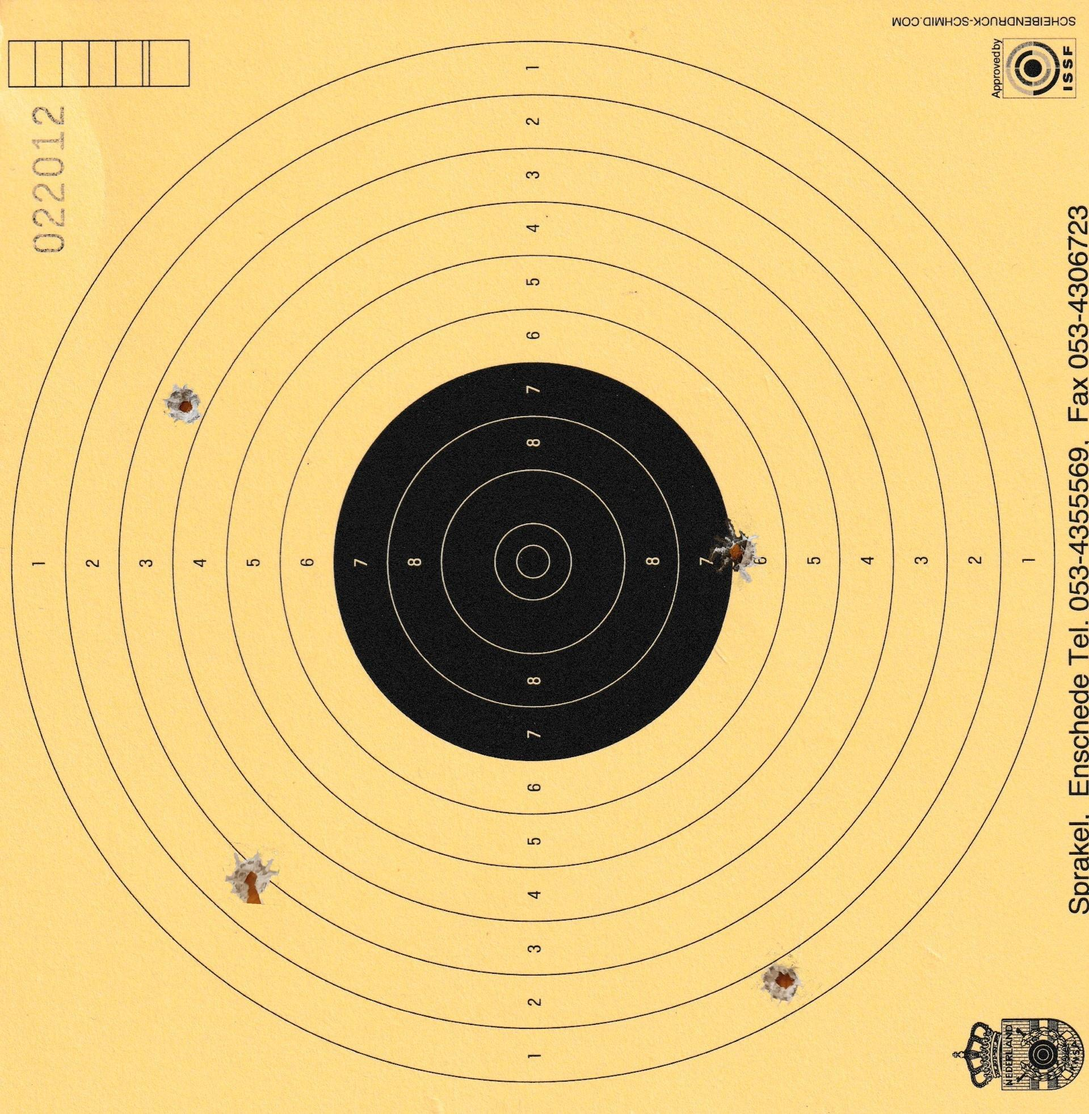hole: (712, 518, 762, 578), (226, 854, 280, 905), (760, 965, 806, 1001), (167, 382, 204, 423)
